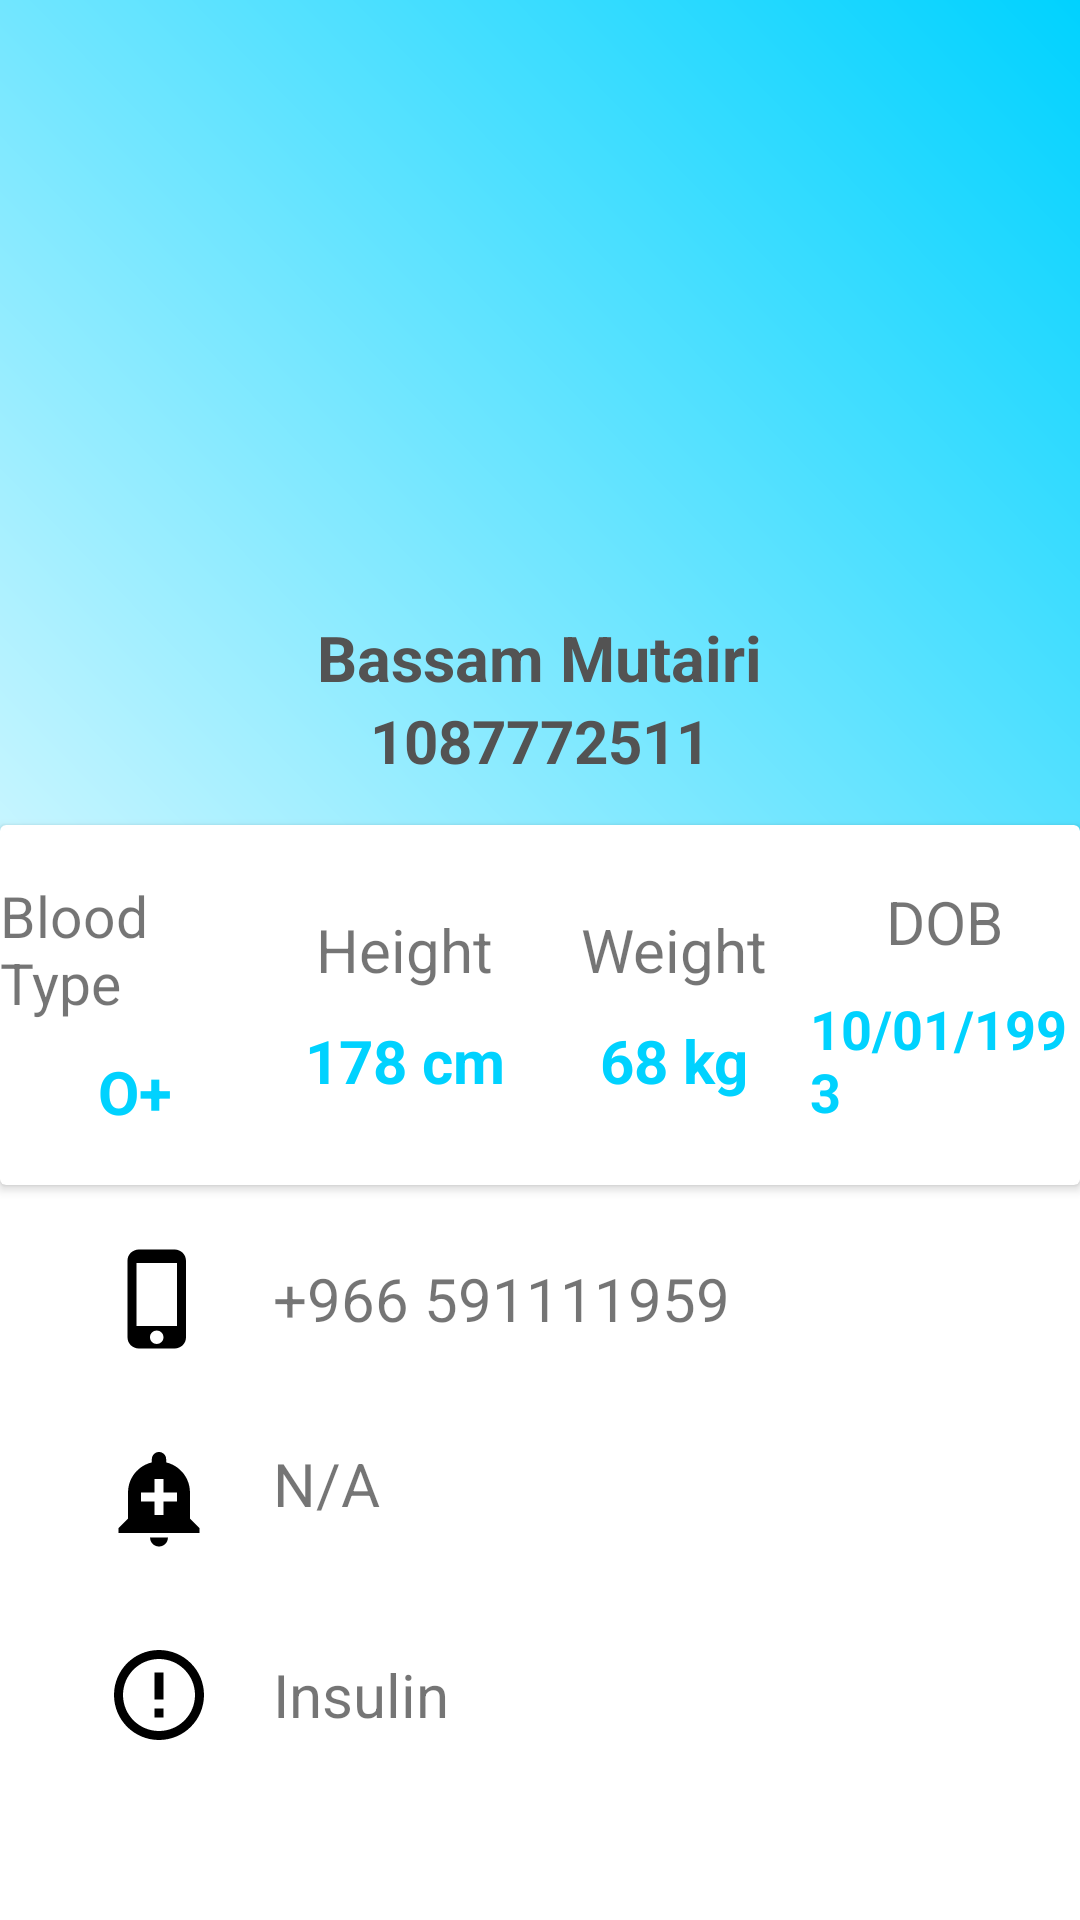

Named icons in this screenshot (1080w x 1920h) and their centers, (x,y):
iphoneicon: (156,1299)
